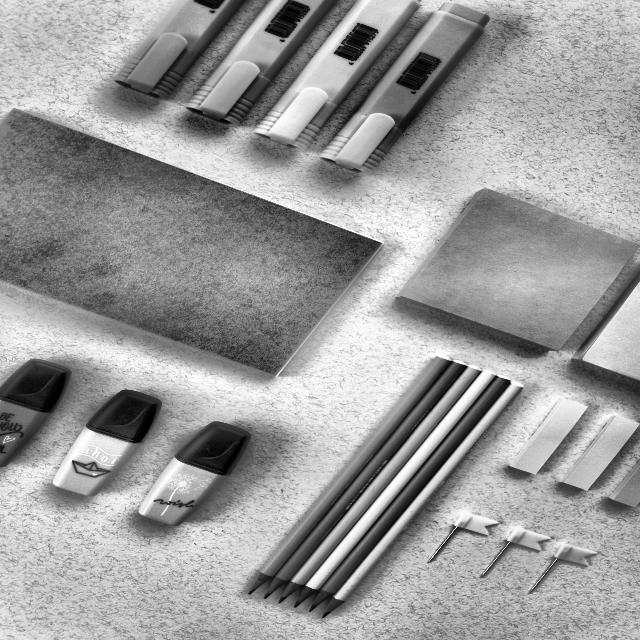Notebook: (0, 107, 388, 380)
